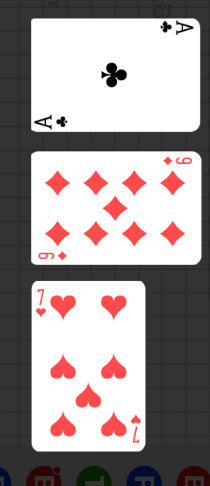7H: (129, 413, 142, 444)
9D: (36, 250, 69, 261)
AC: (33, 112, 70, 129)
